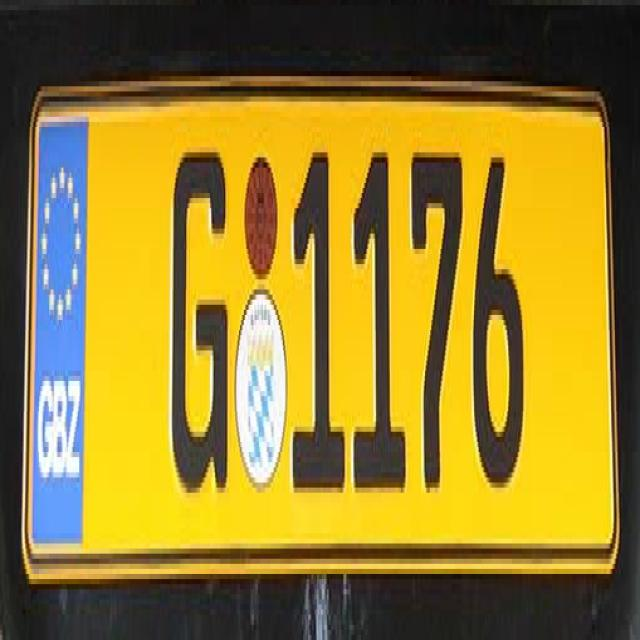Autre: (21, 86, 613, 549)
